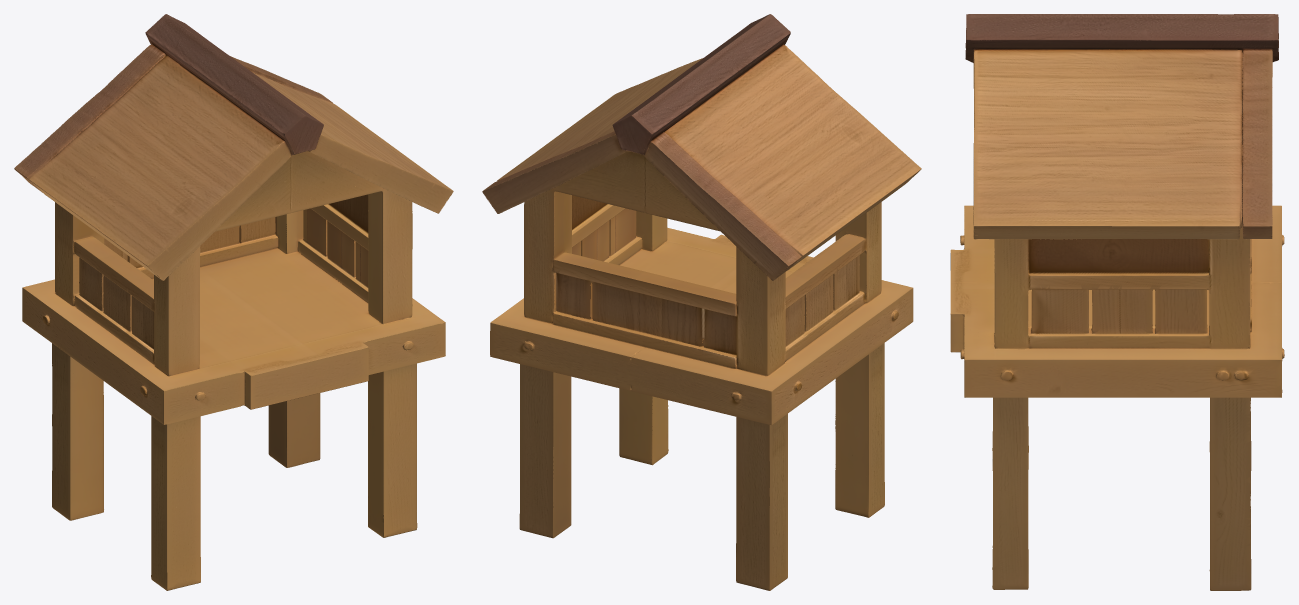
Rendered from base_basic_pbr.fbx.
The picture shows the model from 3 angles, left to right: view 1: azimuth 30°, elevation 25°; view 2: azimuth 150°, elevation 25°; view 3: azimuth 270°, elevation 25°; orthographic projection. The views are drawn at different scales.
Parts seen in each view (by area): view 1: model; view 2: model; view 3: model.
Boxes of the visible parts, x1,y1,x2,y2 form: model: [14, 14, 453, 590]; model: [482, 14, 921, 590]; model: [950, 14, 1284, 590].
Bounding box in the file's own units: 121 × 172 × 102.
Materials: 1 (1 with a texture image).
